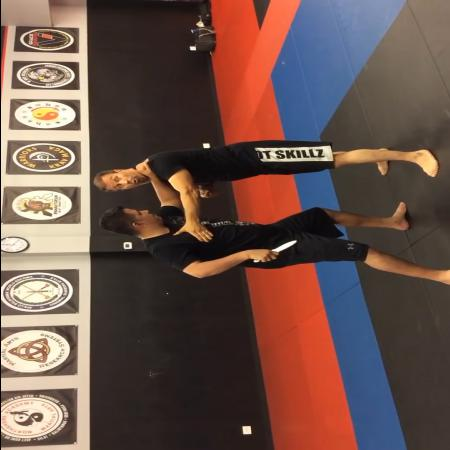long weapon: (248, 238, 302, 266)
